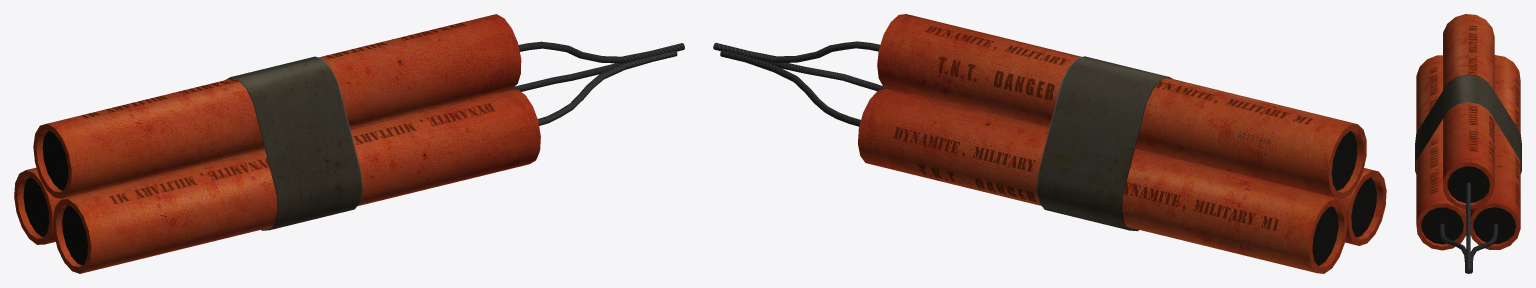
Rendered from dynamite_obj.obj.
3 views of the same model, side by side, from view 1: azimuth 30°, elevation 25°; view 2: azimuth 150°, elevation 25°; view 3: azimuth 270°, elevation 25° (orthographic). The views are drawn at different scales.
Parts seen in each view (by area): view 1: dynamiteSticks; view 2: dynamiteSticks; view 3: dynamiteSticks.
Part boxes in pixels (x1=…): dynamiteSticks: x1=14, y1=14, x2=684, y2=273; dynamiteSticks: x1=713, y1=14, x2=1386, y2=273; dynamiteSticks: x1=1415, y1=14, x2=1521, y2=273.
Bounding box in the file's own units: 13.13 × 2.65 × 2.85.
Materials: 1 (1 with a texture image).
